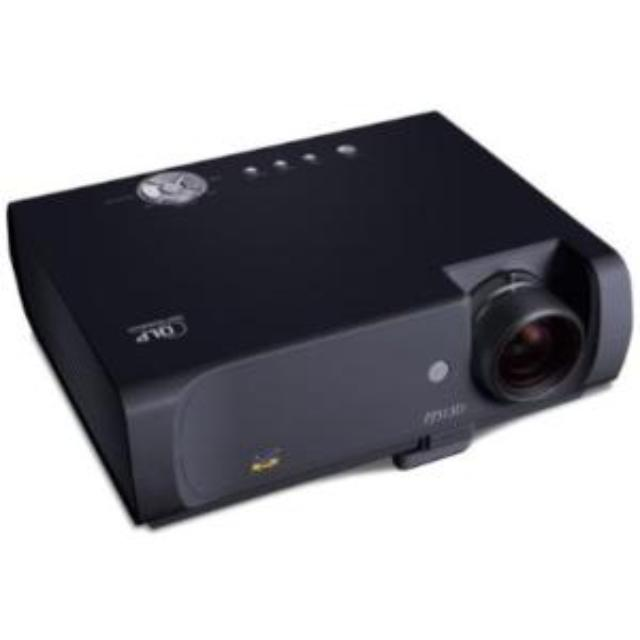Projector: (7, 106, 636, 534)
